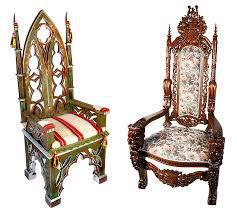chair: (7, 4, 224, 207)
